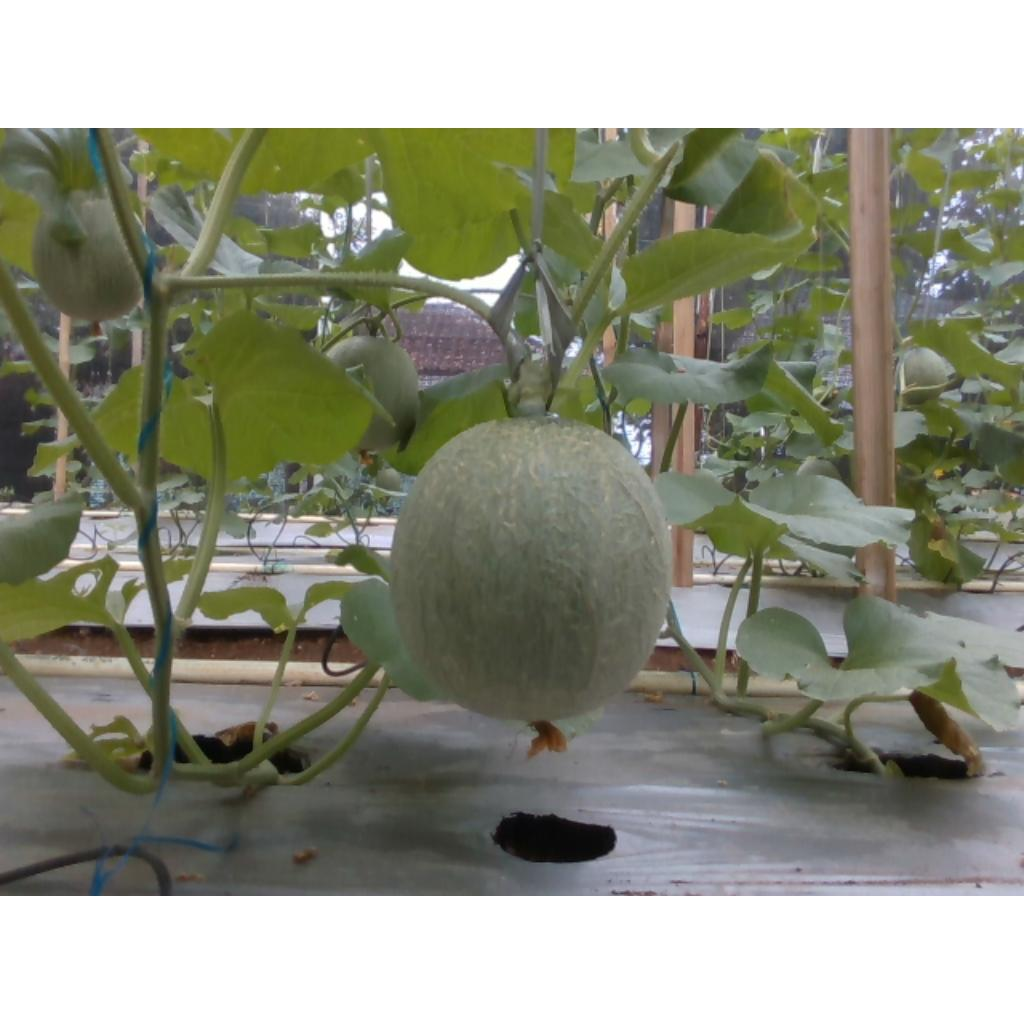melon: (392, 416, 672, 722)
